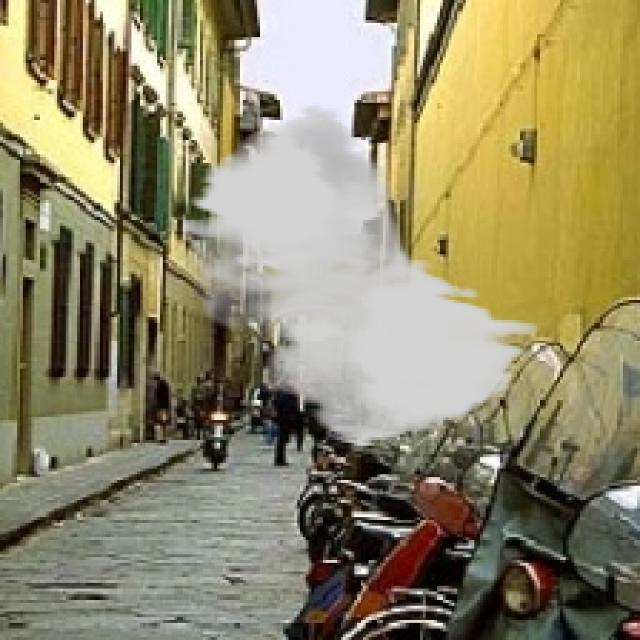smoke: (180, 103, 537, 448)
